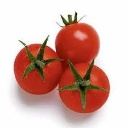tomato: (14, 44, 63, 94), (60, 64, 110, 112), (55, 23, 101, 63)
